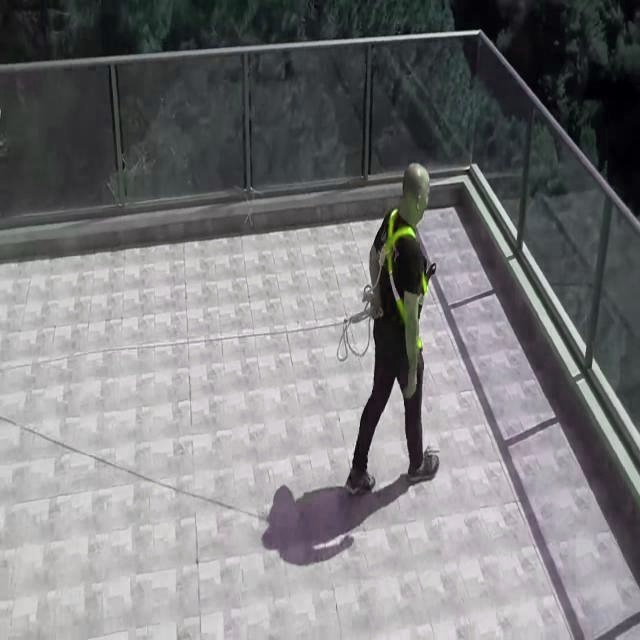safety belt: (356, 214, 435, 361)
